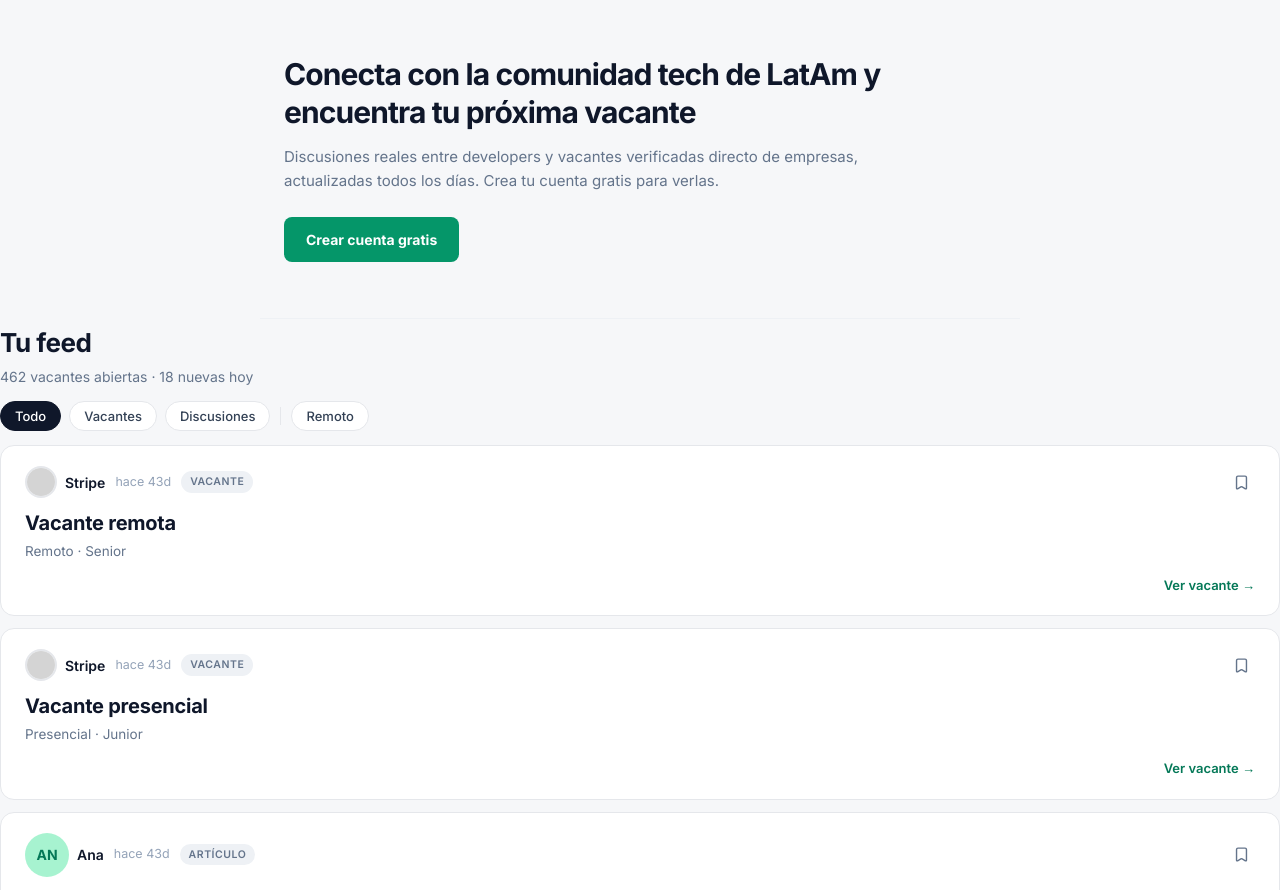
Scenario: la cabecera y los filtros del feed › "Vacantes" quita las discusiones y "Discusiones" quita las vacantes
This screenshot has width=1280, height=890.
(page scrolled)
Expected: the heading "Vacante remota" is shown, [25,511,176,535]
Click the button "Vacantes" at (113, 416), box [69,401,157,431]
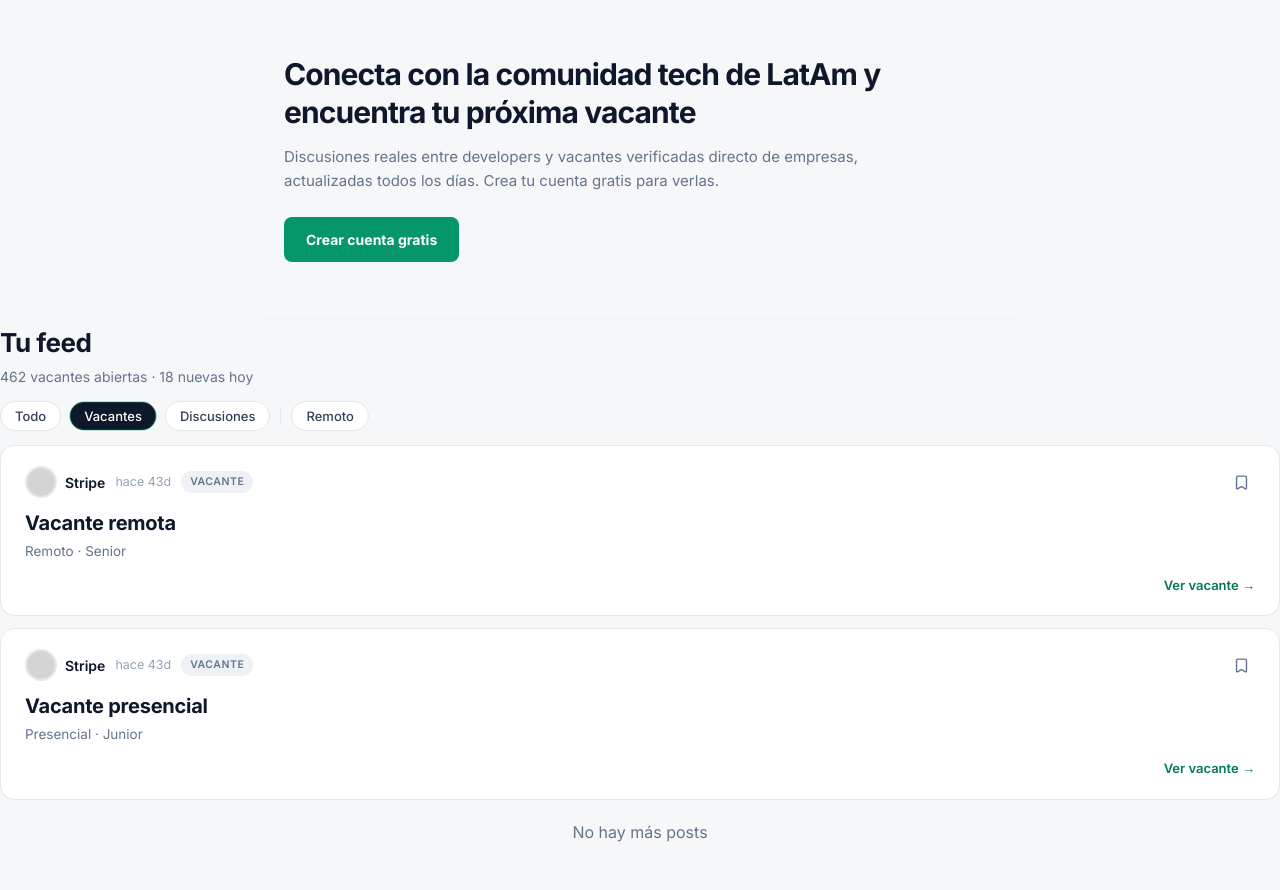
Expected: the heading "Vacante remota" is shown, [25,511,176,535]
Click the button "Discusiones" at (218, 416), box [165,401,270,431]
(page scrolled)
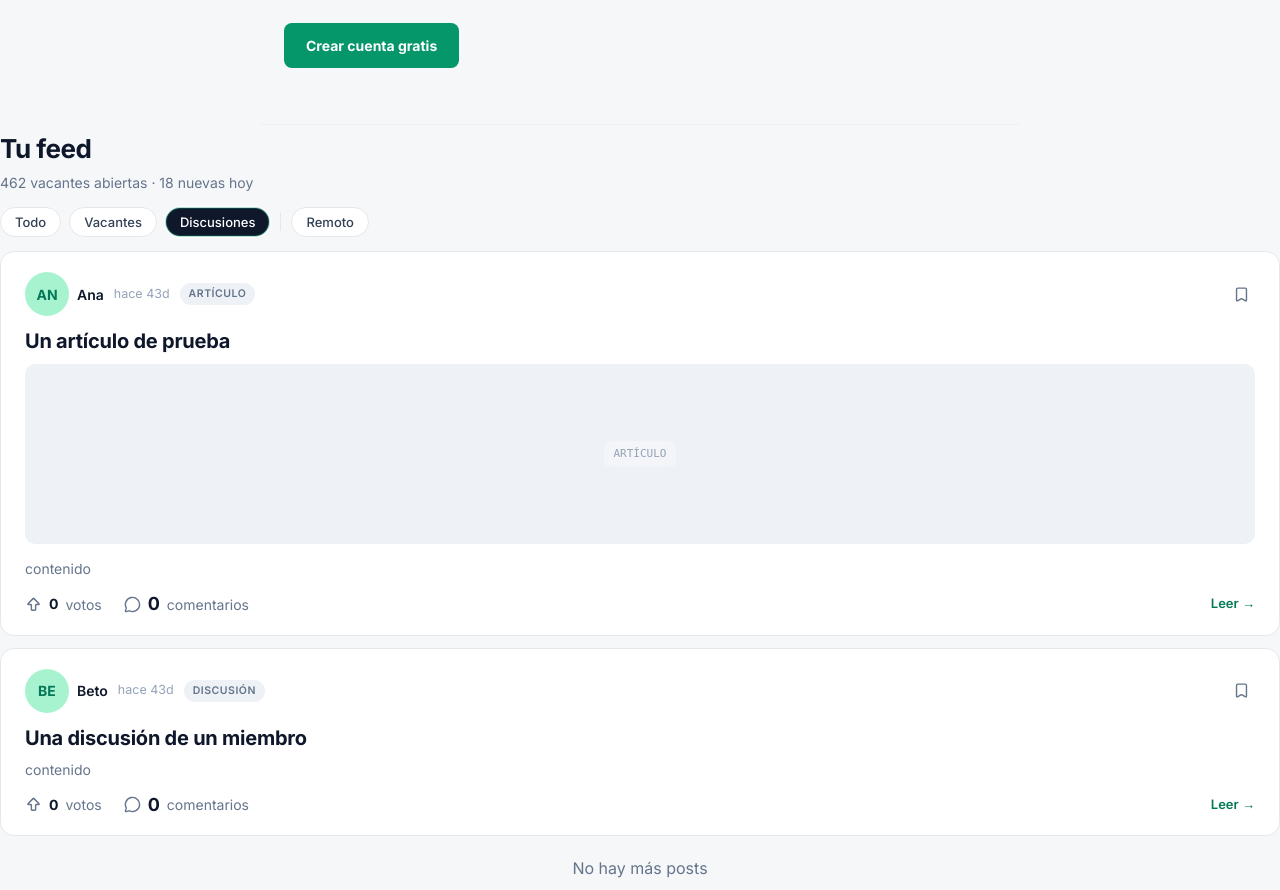
Expected: the heading "Vacante remota" is gone
Expected: the heading "Una discusión de un miembro" is shown, [25,726,307,750]
